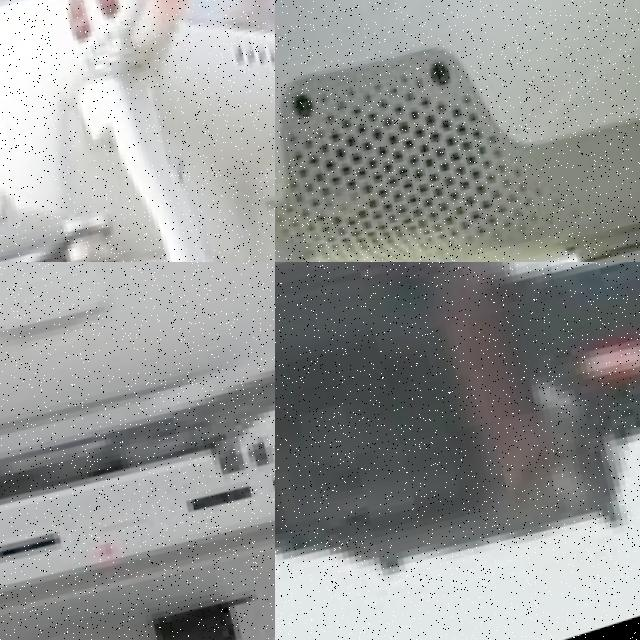0: (275, 262, 640, 640), (0, 262, 275, 640), (0, 0, 275, 262)
drone: (275, 0, 640, 262)
